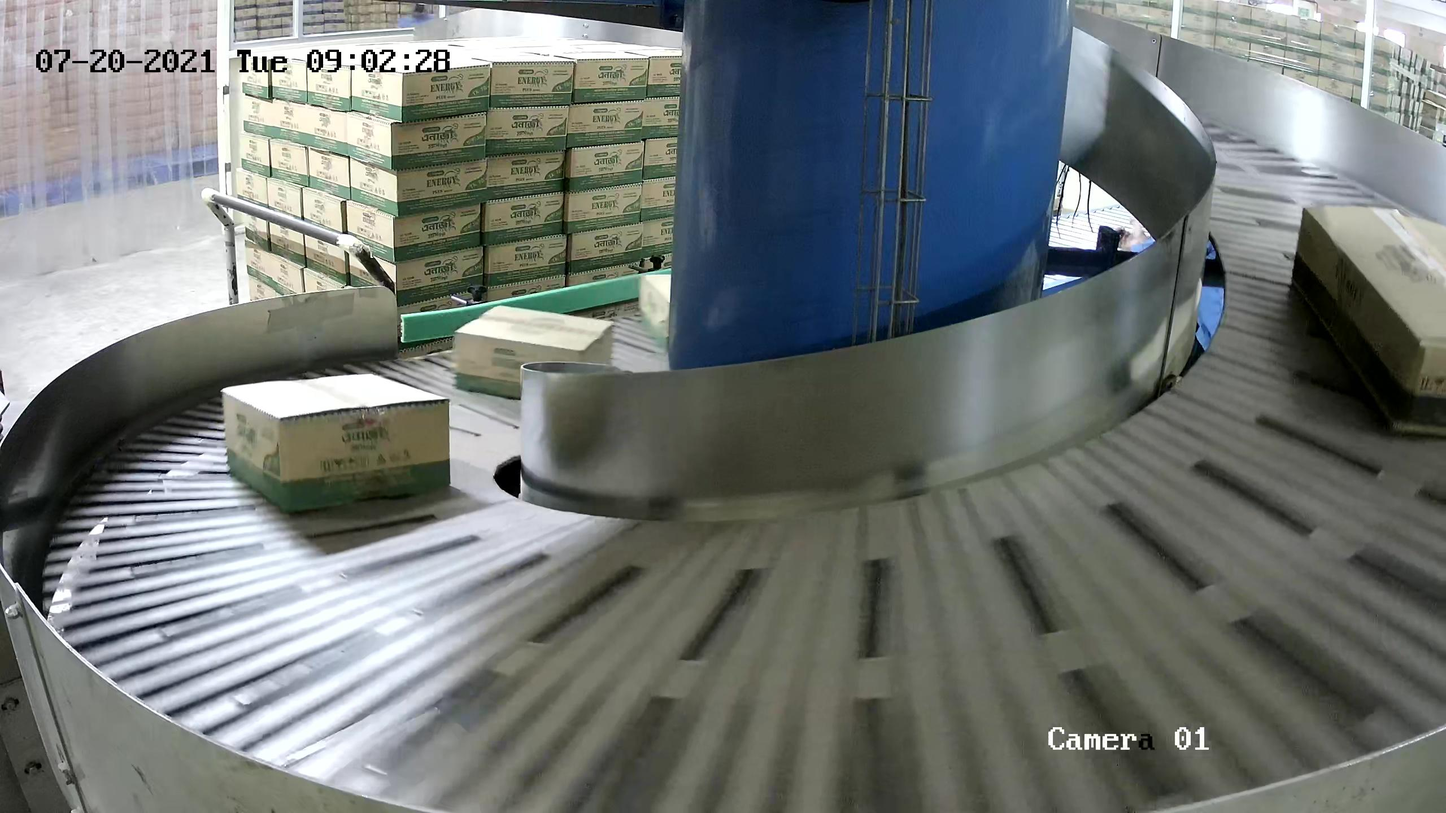Box: (1290, 203, 1446, 436), (220, 371, 453, 513), (453, 304, 615, 400), (638, 273, 671, 350)
